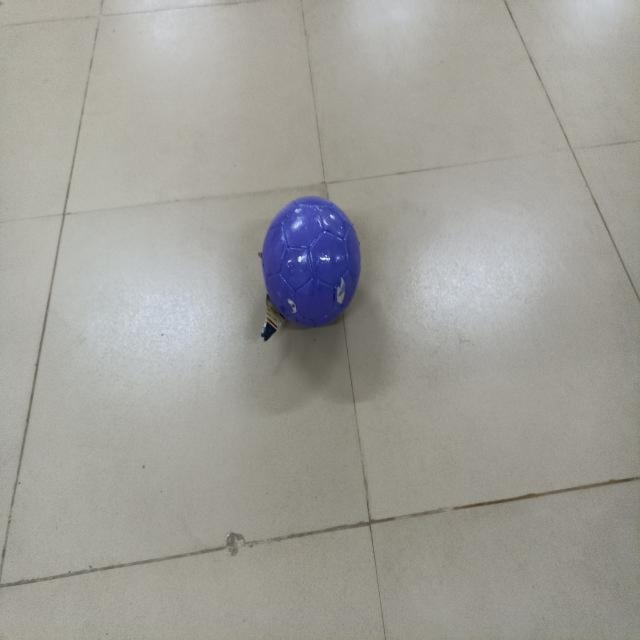purple_ball: (260, 192, 362, 338)
